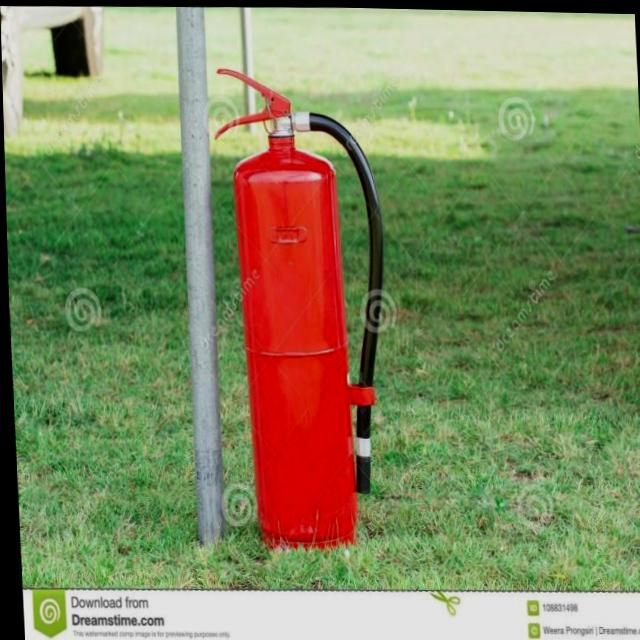FireExtinguisher: (204, 57, 399, 557)
